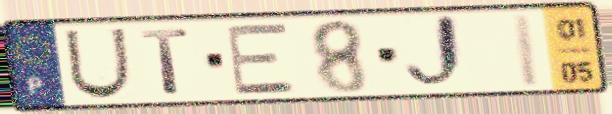8: (307, 17, 371, 95)
E: (223, 21, 301, 97)
I: (509, 11, 545, 90)
J: (401, 11, 471, 95)
T: (137, 26, 194, 97)
U: (61, 26, 133, 102)
